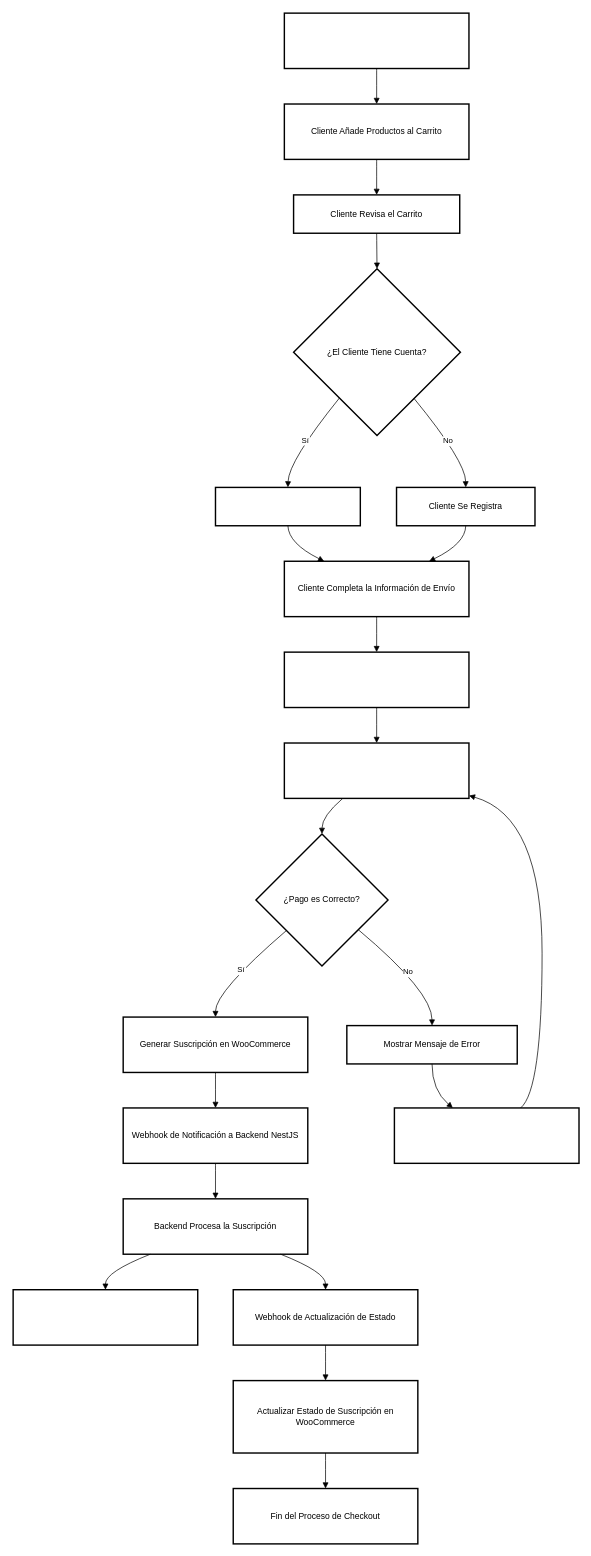
The diagram is 591 pixels wide and 1556 high, and some of its shapes have lost their labels. The centre of each missing label's shape, as x and y in pixels:
Cliente Inicia Sesión: (287,506)
Cliente Puede Intentar Nuevamente: (486,1135)
Cliente Selecciona Método de Envío: (376,679)
Cliente Selecciona Método de Pago: (376,770)
Inicio del Proceso de Checkout: (376,40)
Notificar Cliente Sobre suscripción Activa: (105,1317)
